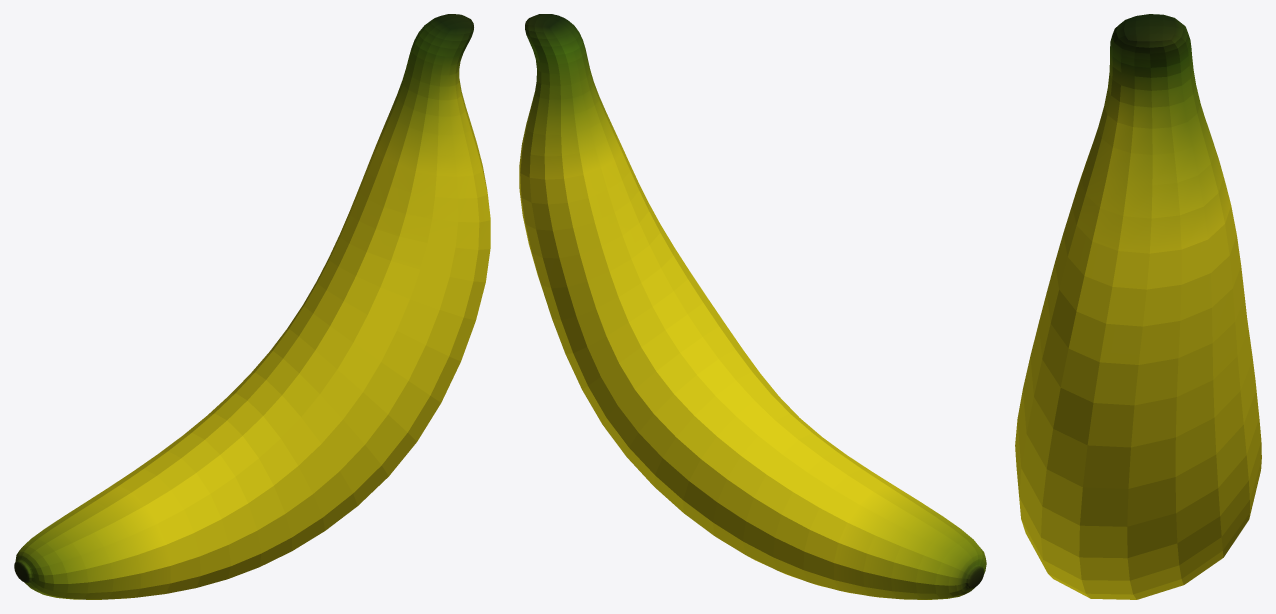
File: banana.fbx
3 views of the same model, side by side, from view 1: azimuth 30°, elevation 25°; view 2: azimuth 150°, elevation 25°; view 3: azimuth 270°, elevation 25° (orthographic). The views are drawn at different scales.
Parts seen in each view (by area): view 1: Cube; view 2: Cube; view 3: Cube.
Boxes of the visible parts, x1,y1,x2,y2 form: Cube: [14, 14, 490, 599]; Cube: [519, 14, 986, 599]; Cube: [1015, 14, 1261, 599].
Size of the model in its own units: 1329 by 1381 by 418.
